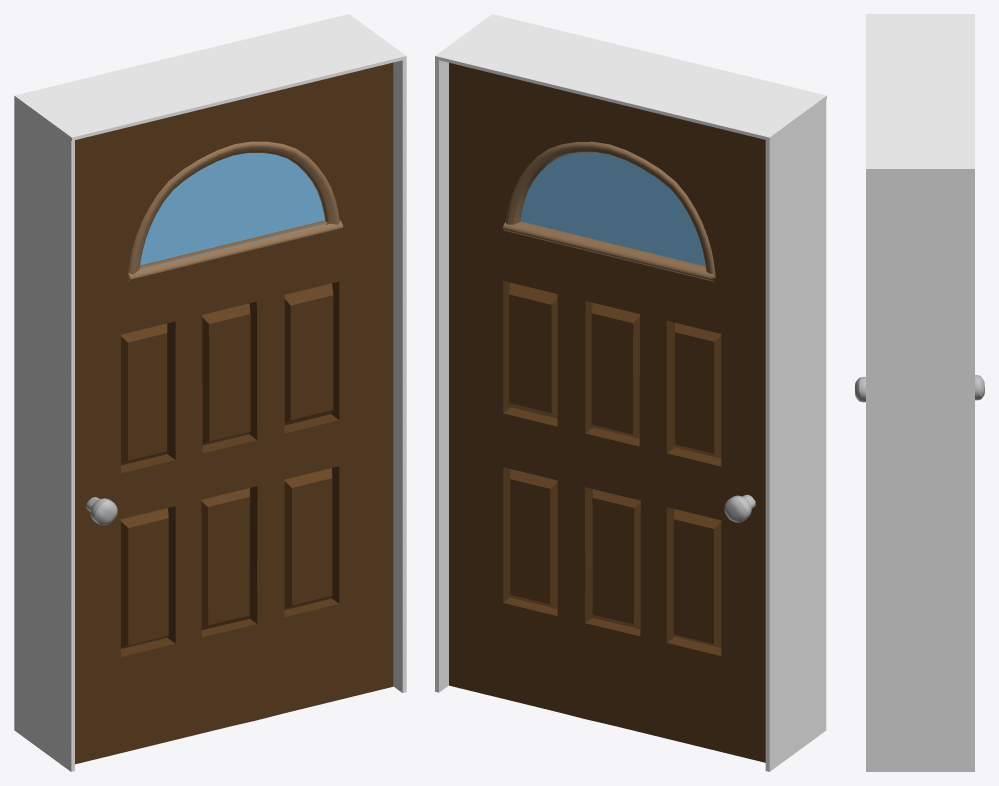
File: frontDoorDark.obj
3 views of the same model, side by side, from view 1: azimuth 30°, elevation 25°; view 2: azimuth 150°, elevation 25°; view 3: azimuth 270°, elevation 25° (orthographic). The views are drawn at different scales.
Parts seen in each view (by area): view 1: PolyMesh_7, Cube_3, Cube_4, sweethome3d_window_pane, Cube_3_1, Extruded_Object_1_1, Extruded_Object_3_1, Cylinder_2; view 2: PolyMesh_7-mirror, Cube_3, Cube_4, sweethome3d_window_pane, Cube_3_1, Extruded_Object_1, Extruded_Object_3, Cylinder_2_1; view 3: Cube_3_1, Cube_4, Cylinder_2.
Boxes of the visible parts, bbox=[...] form: PolyMesh_7: bbox=[75, 62, 393, 764]; Cube_3: bbox=[14, 97, 74, 771]; Cube_4: bbox=[14, 14, 406, 140]; sweethome3d_window_pane: bbox=[139, 153, 325, 269]; Cube_3_1: bbox=[393, 59, 406, 692]; Extruded_Object_1_1: bbox=[127, 141, 339, 278]; Extruded_Object_3_1: bbox=[128, 220, 343, 281]; Cylinder_2: bbox=[86, 497, 117, 525]; PolyMesh_7-mirror: bbox=[449, 62, 765, 762]; Cube_3: bbox=[765, 98, 826, 771]; Cube_4: bbox=[435, 14, 826, 140]; sweethome3d_window_pane: bbox=[520, 152, 705, 266]; Cube_3_1: bbox=[435, 59, 448, 692]; Extruded_Object_1: bbox=[505, 141, 715, 278]; Extruded_Object_3: bbox=[502, 221, 714, 281]; Cylinder_2_1: bbox=[724, 494, 755, 522]; Cube_3_1: bbox=[866, 171, 974, 771]; Cube_4: bbox=[866, 14, 974, 170]; Cylinder_2: bbox=[855, 377, 865, 402].
Size of the model in its own units: 0.6653 by 1.21 by 0.2359.
